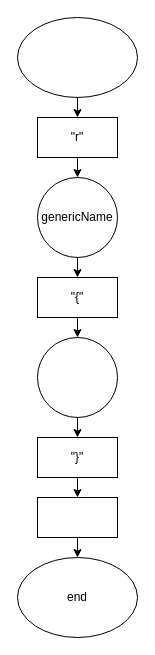
Image size: 155x655. Some labels were removed from this diagram. The centre of each missing label's shape, as x and y in pixels:
begin: (x=77, y=57)
EOF: (x=77, y=517)
rule: (x=77, y=377)
